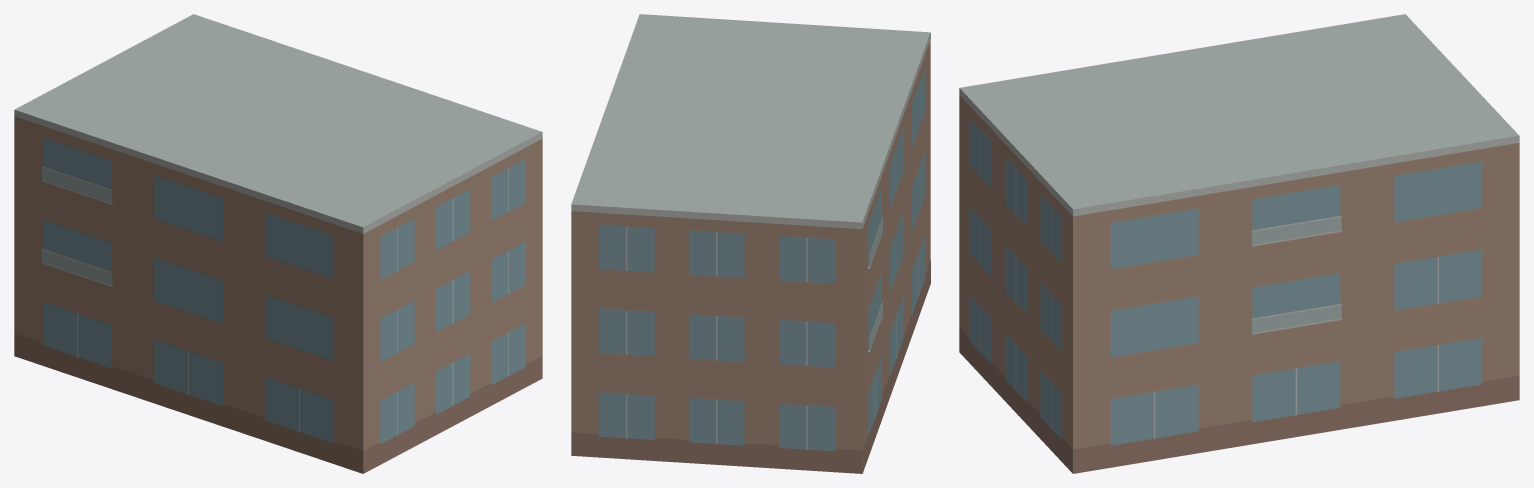
The model's file is survey-upis-32698466.glb.
3 renders of one model, left to right at view 1: azimuth 30°, elevation 25°; view 2: azimuth 150°, elevation 25°; view 3: azimuth 270°, elevation 25°, orthographic. The views are drawn at different scales.
Visible parts, largest first — view 1: survey-upis-32698466.tmp; view 2: survey-upis-32698466.tmp; view 3: survey-upis-32698466.tmp.
Part boxes in pixels (x1,y1,x2,y2): survey-upis-32698466.tmp: (14,14,542,473); survey-upis-32698466.tmp: (571,14,930,473); survey-upis-32698466.tmp: (959,14,1519,473).
Bounding box in the file's own units: 14.52 × 9.15 × 17.58.
